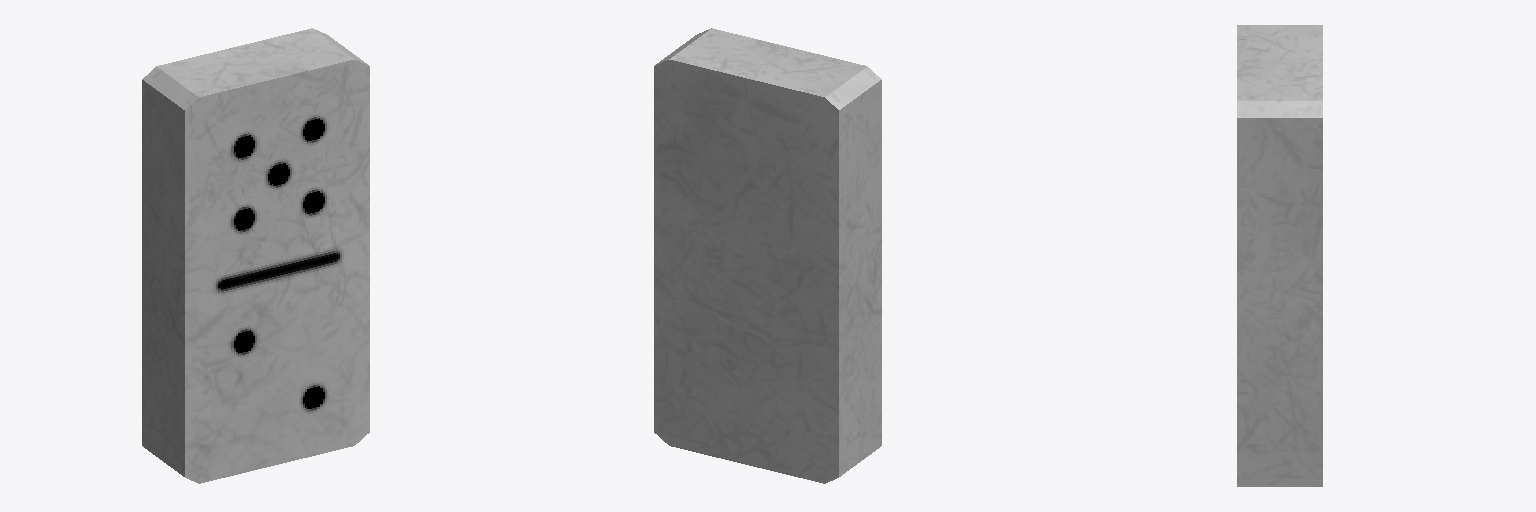
3 views of the same model, side by side, from view 1: azimuth 30°, elevation 25°; view 2: azimuth 150°, elevation 25°; view 3: azimuth 270°, elevation 25° (orthographic).
Visible parts, largest first — view 1: Prop_Domino_Cube; view 2: Prop_Domino_Cube; view 3: Prop_Domino_Cube.
Boxes of the visible parts, x1,y1,x2,y2 form: Prop_Domino_Cube: [142, 28, 369, 483]; Prop_Domino_Cube: [654, 28, 881, 483]; Prop_Domino_Cube: [1237, 25, 1322, 486].
Bounding box in the file's own units: 2 × 4 × 0.8.
1 materials, 1 textured.